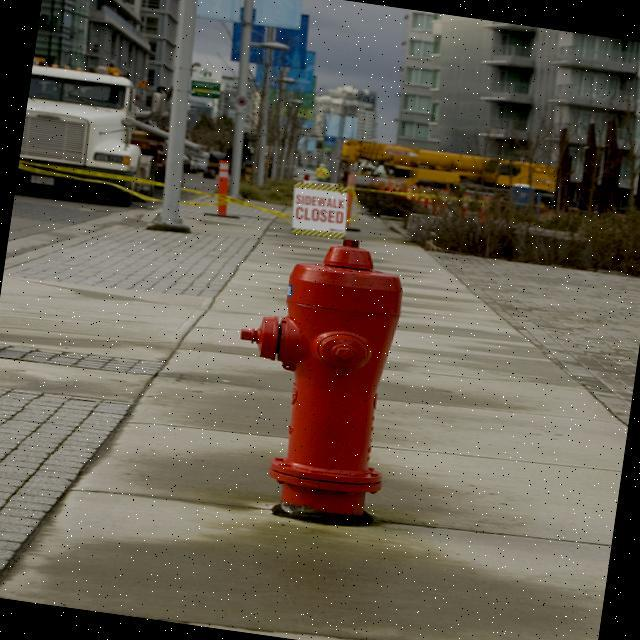fire_hydrant: (214, 223, 413, 526)
